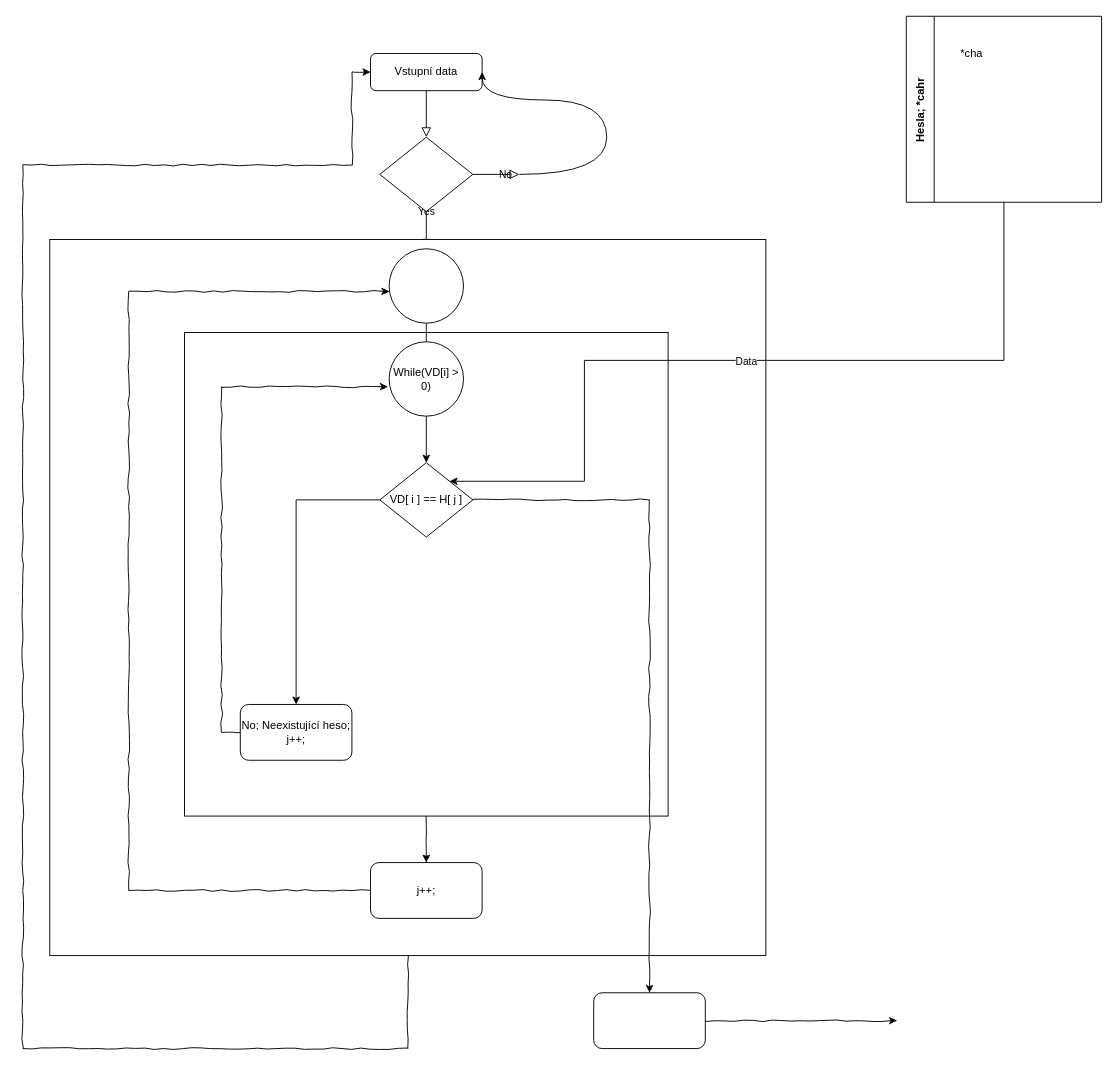
Image size: 1118x1072. Some labels were removed from this diagram. The centre of each missing label's shape, as x and y in pixels:
Break; Vstup povolen( ): [649,1020]
VD > 0: [426,174]
While(H[ j ] >0): [426,285]
